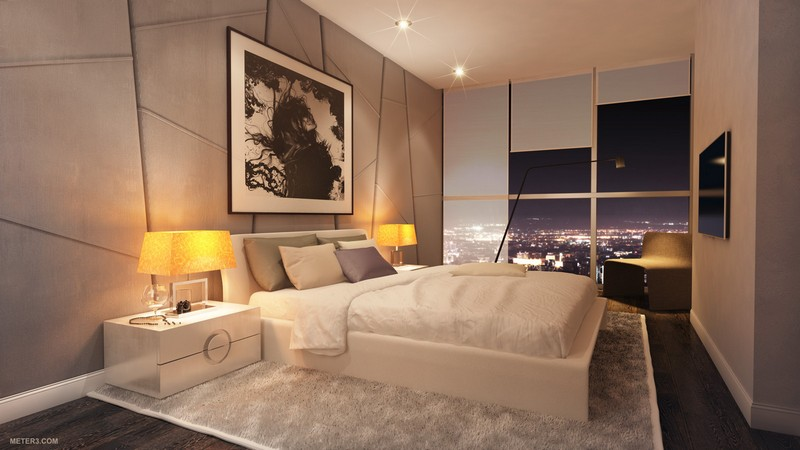bed: (232, 223, 617, 432)
lamp: (135, 226, 238, 313), (376, 220, 419, 267)
sofa: (606, 229, 690, 318)
stool: (102, 295, 263, 403)
